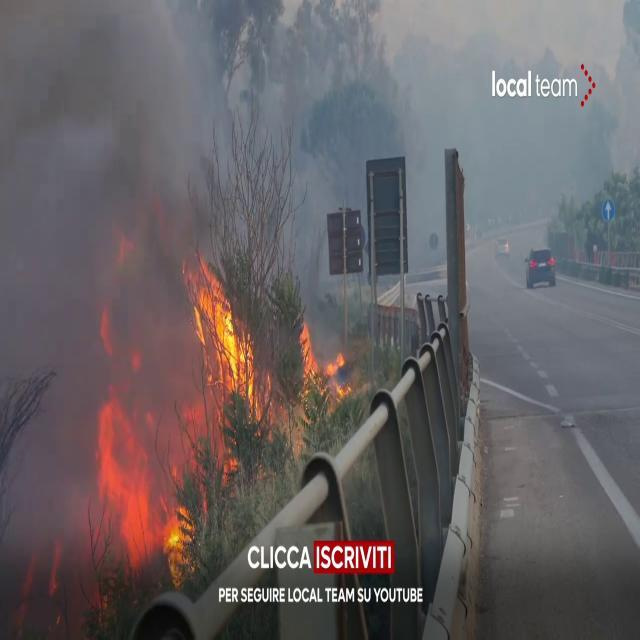Fire: (93, 377, 200, 581), (188, 253, 260, 418), (296, 314, 351, 402)
Smoke: (0, 2, 212, 550)
